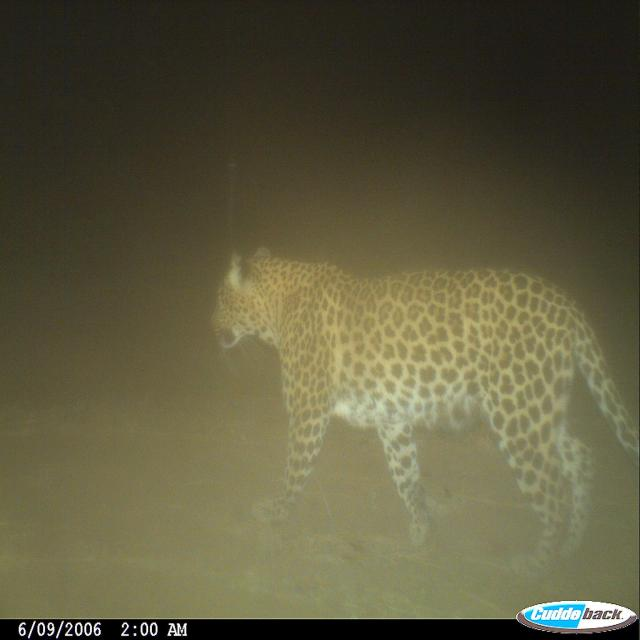Leopard: (196, 240, 640, 552)
